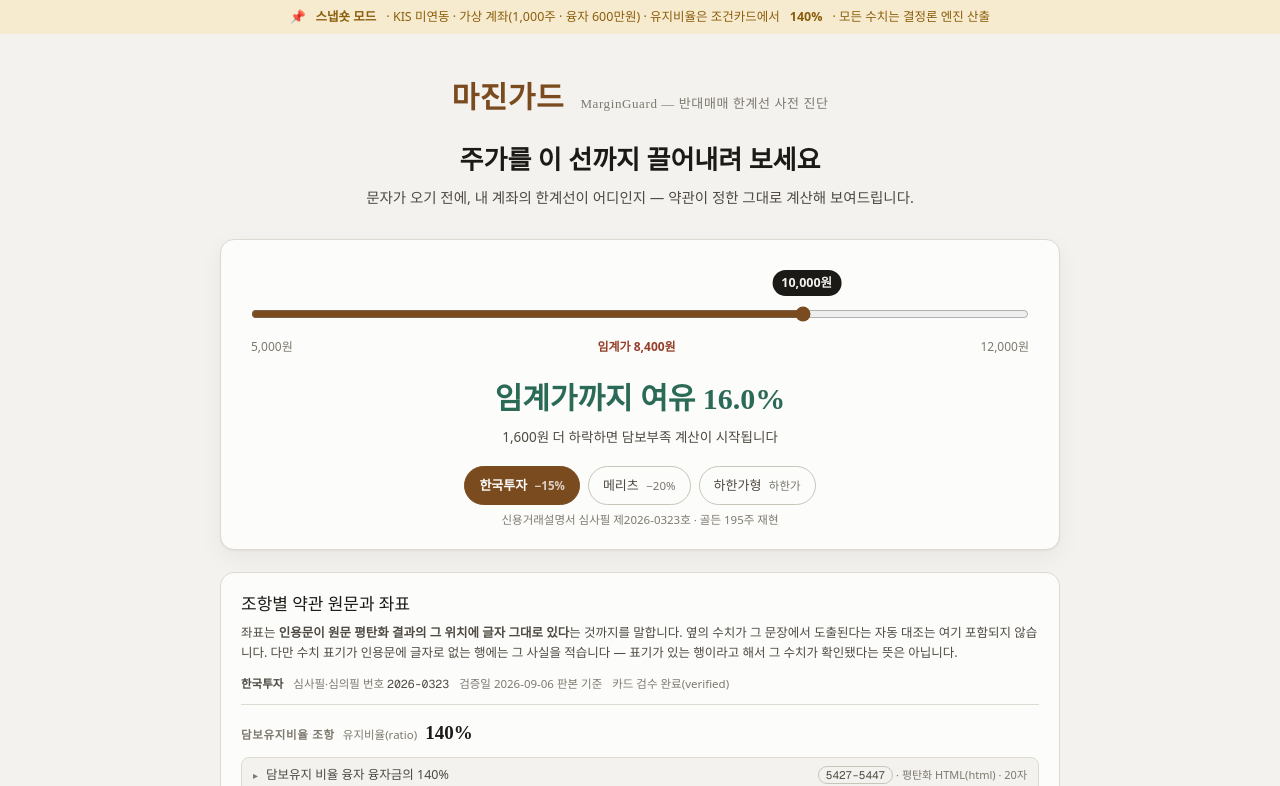
Test: draft 카드의 배너가 실제로 화면에 나온다 (#63) › 🔴 #63이 고친 문구가 그대로 렌더된다
The width and height of the screenshot is (1280, 786).
What coordinates should you click on to do the following:
click the button "하한가형 하한가"
I would click on:
 (757, 486)
Its box is [699,466,816,505].
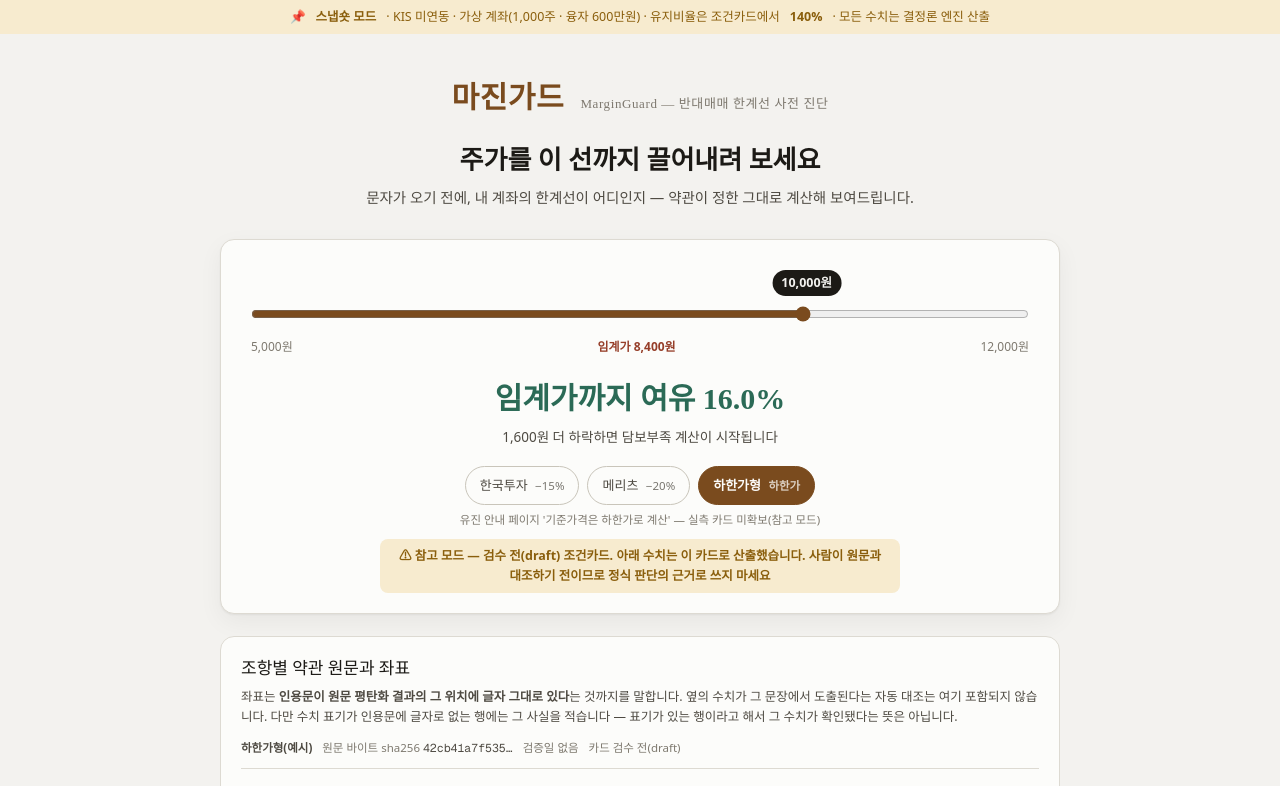
Expected: the text with id "cardBanner" shows "검수 전(draft)", [399,547,881,584]
Expected: the text with id "cardBanner" shows "이 카드로 산출", [399,547,881,584]
